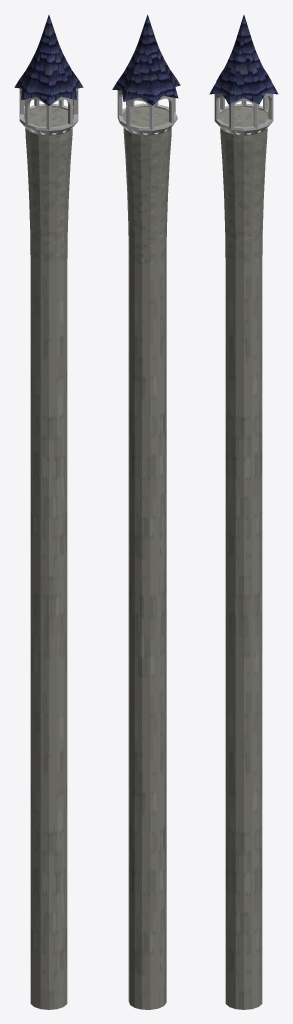
File: tower.glb
3 renders of one model, left to right at view 1: azimuth 90°, elevation 25°; view 2: azimuth 150°, elevation 25°; view 3: azimuth 270°, elevation 25°, orthographic.
Parts seen in each view (by area): view 1: tower4; view 2: tower4; view 3: tower4.
Part boxes in pixels (x1,y1,x2,y2): tower4: (14, 15, 83, 1009); tower4: (112, 14, 180, 1009); tower4: (209, 15, 278, 1009).
Bounding box in the file's own units: 2.6 × 41.9 × 2.67.
Materials: 3 (2 with a texture image).
